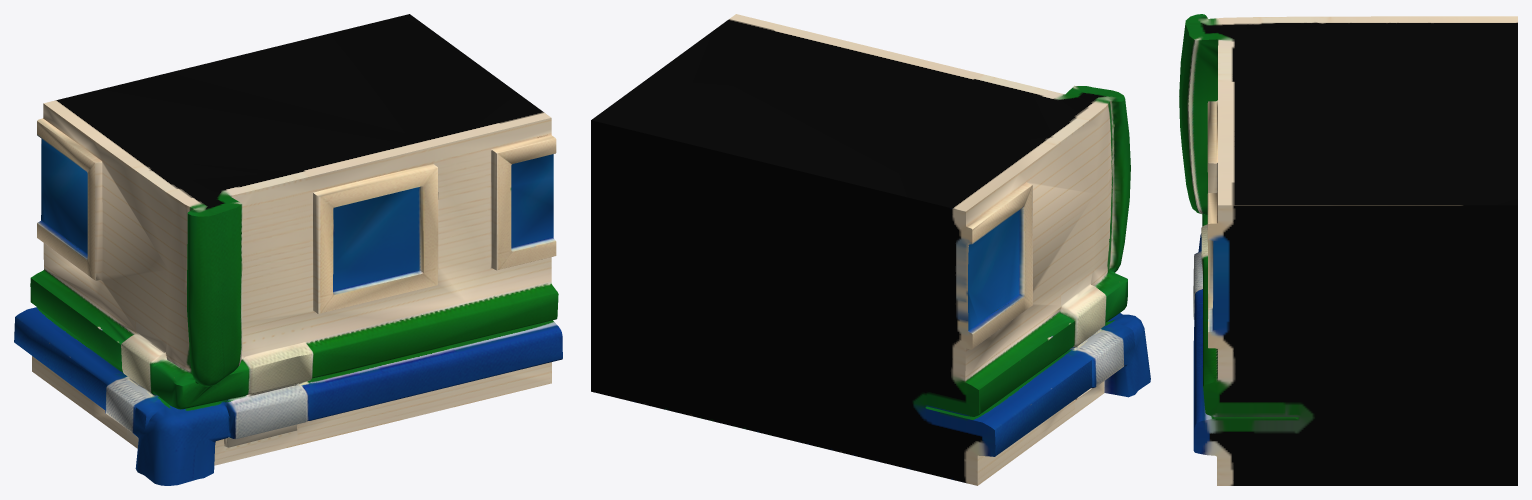
The model's file is 5-upper-walls-front-left.fbx.
3 views of the same model, side by side, from view 1: azimuth 30°, elevation 25°; view 2: azimuth 150°, elevation 25°; view 3: azimuth 270°, elevation 25° (orthographic). The views are drawn at different scales.
Visible parts, largest first — view 1: upper-walls-front-left; view 2: upper-walls-front-left; view 3: upper-walls-front-left.
Boxes of the visible parts, x1,y1,x2,y2 form: upper-walls-front-left: (14,14,562,485); upper-walls-front-left: (591,14,1150,485); upper-walls-front-left: (1179,14,1517,485).
Bounding box in the file's own units: 9009 × 5681 × 6216.
1 material, 1 textured.
